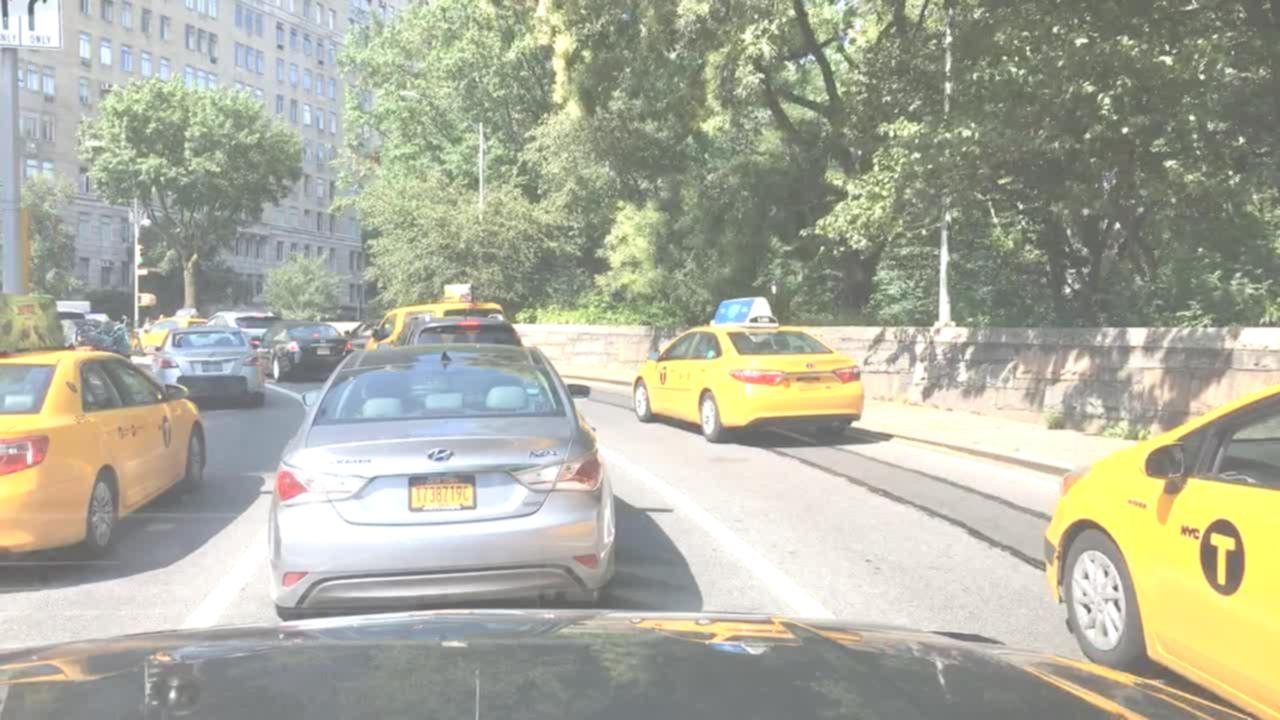Hyundai: (425, 444, 457, 467)
